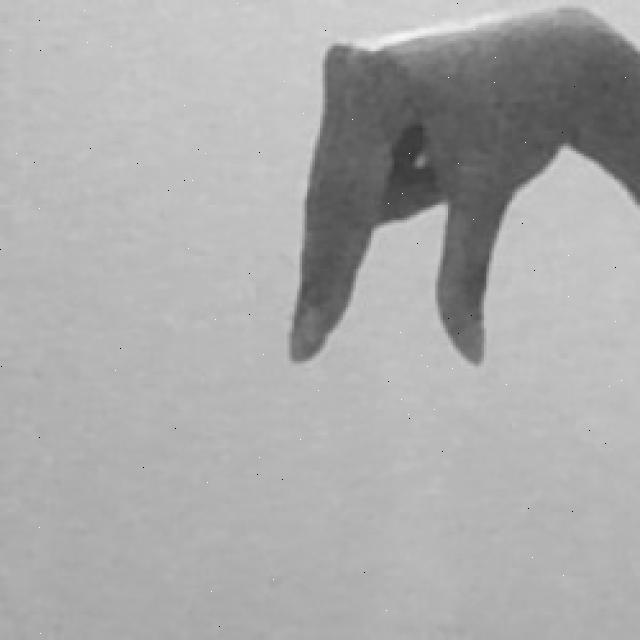Q: (276, 0, 639, 376)
